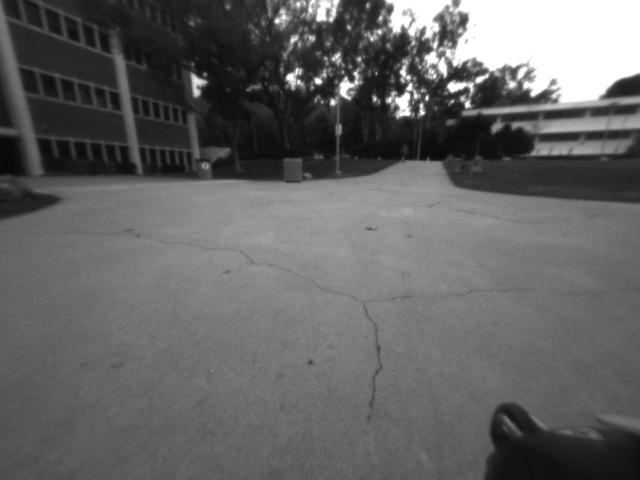trashcan: (281, 156, 306, 184), (195, 155, 215, 180)
